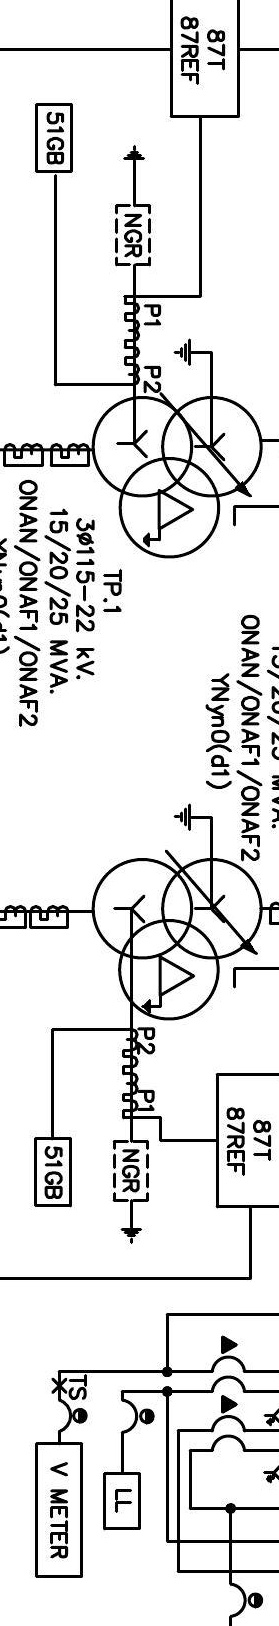11522_tx_ynyn0d1: (90, 395, 264, 560), (90, 857, 264, 1022)
LL: (102, 1471, 142, 1531)
NGR_future: (114, 145, 152, 267), (112, 1139, 149, 1245)
v_m_digital: (34, 1441, 84, 1579)
